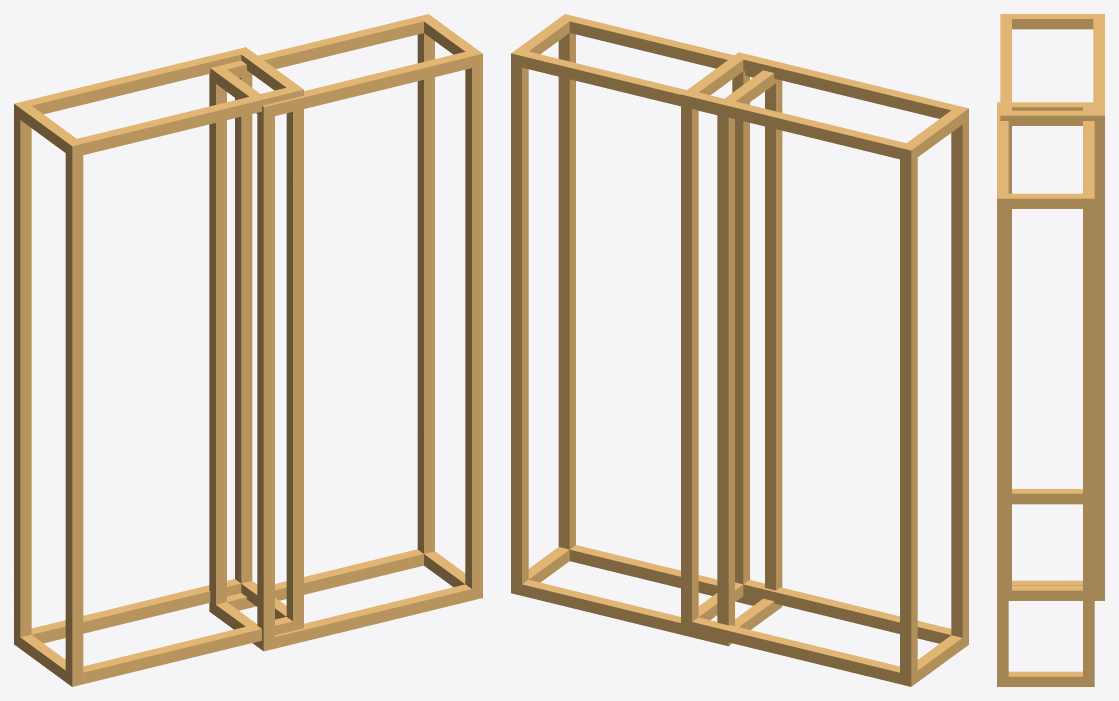
Rendered from tools_side.glb.
3 views of the same model, side by side, from view 1: azimuth 30°, elevation 25°; view 2: azimuth 150°, elevation 25°; view 3: azimuth 270°, elevation 25° (orthographic). The views are drawn at different scales.
Parts seen in each view (by area): view 1: box_1, box_0; view 2: box_1, box_0; view 3: box_0, box_1.
Part boxes in pixels (left/top/right/bottom): box_1: left=14, top=47, right=303, bottom=686; box_0: left=209, top=14, right=482, bottom=651; box_1: left=681, top=52, right=968, bottom=686; box_0: left=511, top=14, right=782, bottom=646; box_0: left=997, top=102, right=1094, bottom=686; box_1: left=1000, top=14, right=1104, bottom=600.
Size of the model in its own units: 0.3676 by 0.4725 by 0.0934.
